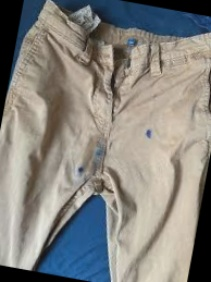ink: (95, 140, 108, 158), (145, 129, 152, 139), (78, 167, 84, 172)
